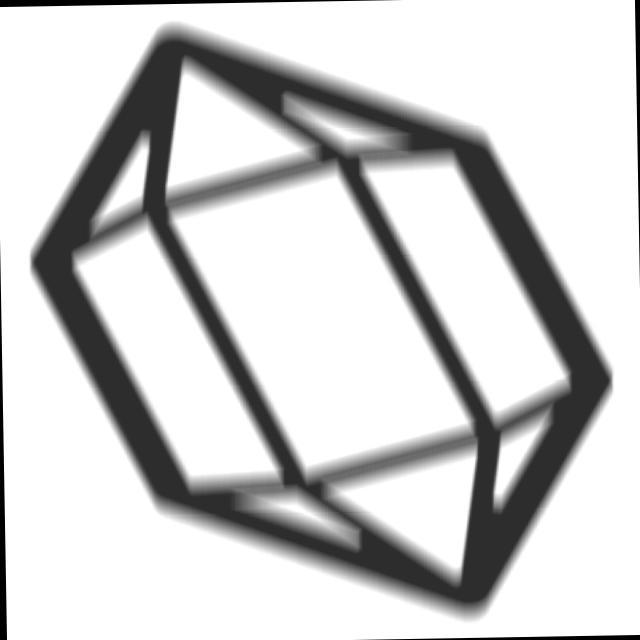crystal: (13, 8, 632, 635)
